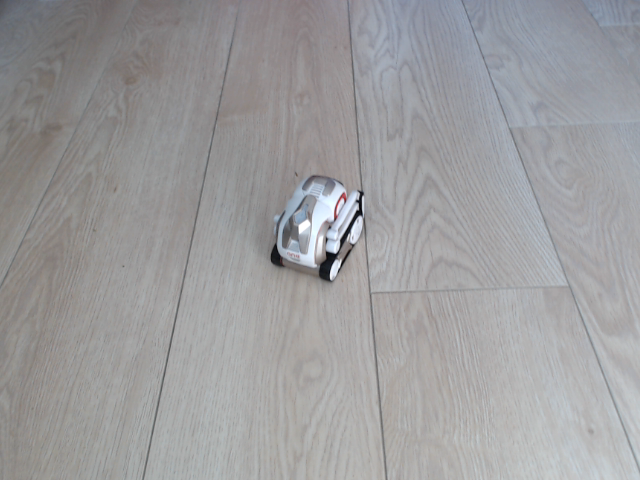cozmo: (270, 174, 367, 283)
